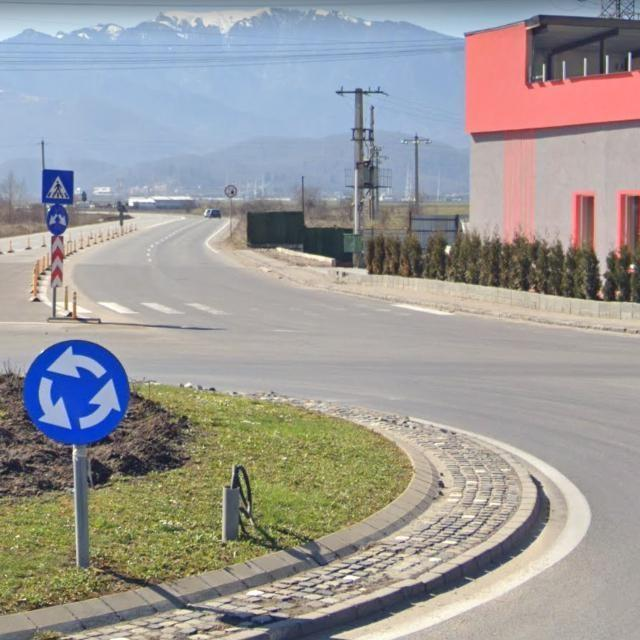info_crosswalk: (40, 168, 73, 205)
